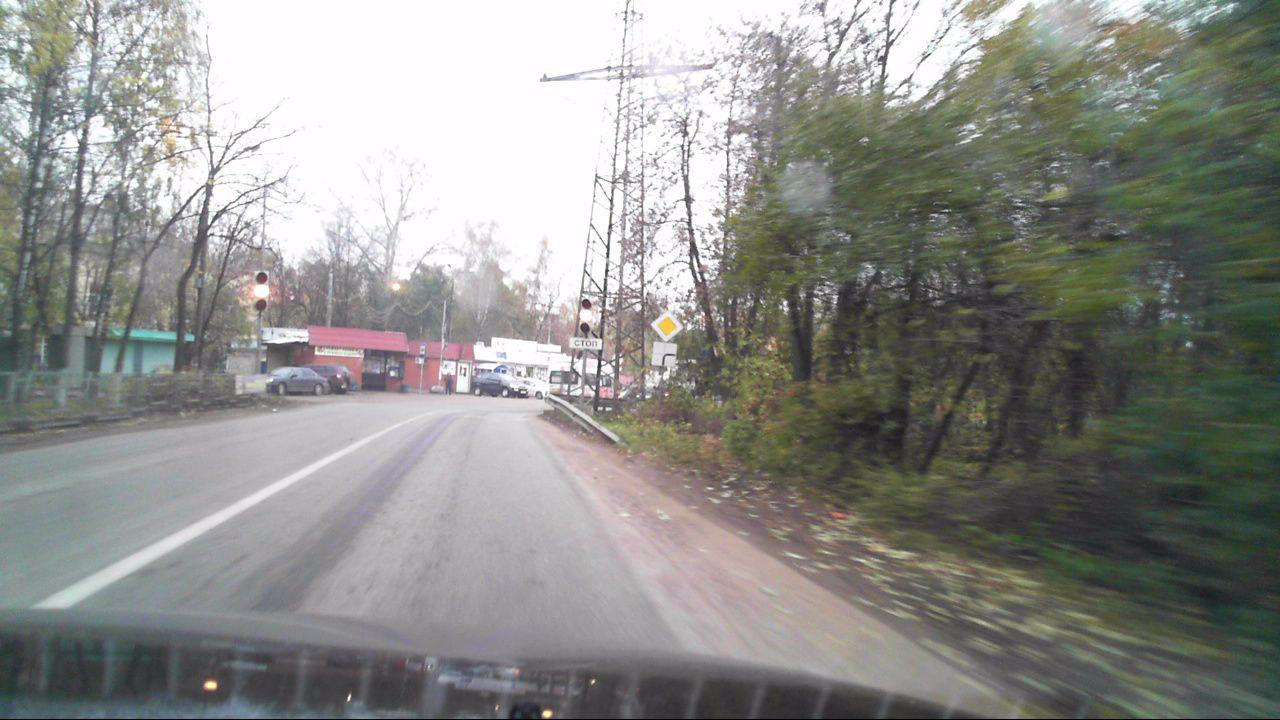2_1: (650, 309, 683, 340)
5_16: (419, 343, 427, 358)
6_16: (570, 337, 603, 351)
8_13: (650, 342, 678, 366)
